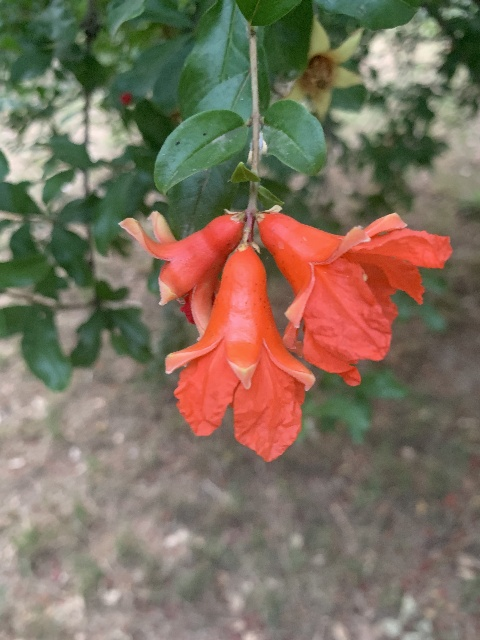early-fruit: (277, 15, 365, 123)
flower: (258, 211, 453, 385), (165, 247, 314, 460), (119, 211, 242, 333)
